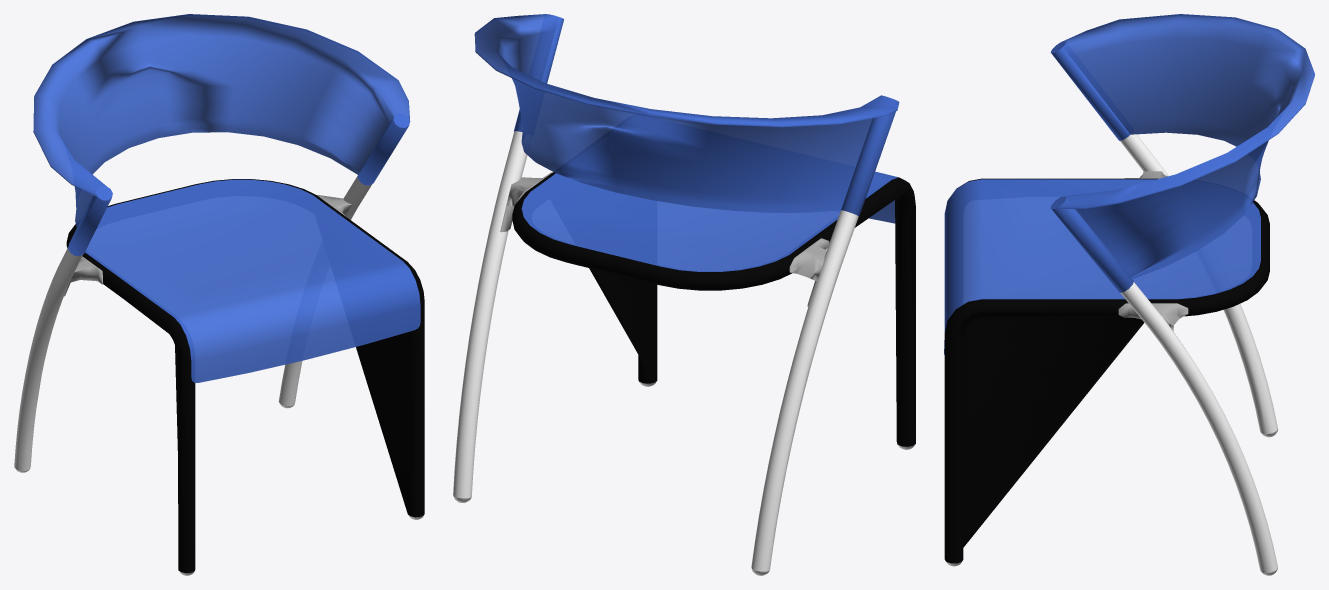
Rendered from chair.glb.
3 views of the same model, side by side, from view 1: azimuth 30°, elevation 25°; view 2: azimuth 150°, elevation 25°; view 3: azimuth 270°, elevation 25° (orthographic). The views are drawn at different scales.
Parts seen in each view (by area): view 1: back1.2, seat1.16, frame1.6, connect1.4; view 2: back1.2, frame1.6, seat1.16, connect1.4, connect2.18; view 3: back1.2, frame1.6, seat1.16, connect2.18.
Part boxes in pixels (x1,y1,x2,y2): back1.2: (33, 14, 410, 256); seat1.16: (85, 179, 420, 382); frame1.6: (14, 175, 424, 573); connect1.4: (64, 256, 103, 296); back1.2: (474, 14, 899, 216); frame1.6: (453, 131, 915, 571); seat1.16: (521, 171, 898, 271); connect1.4: (789, 238, 829, 307); connect2.18: (500, 172, 551, 232); back1.2: (1050, 14, 1314, 292); frame1.6: (944, 134, 1277, 573); seat1.16: (944, 179, 1260, 354); connect2.18: (1118, 303, 1188, 331).
Size of the model in its own units: 25.98 by 28.71 by 22.36.
